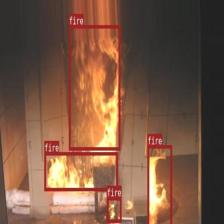fire: (68, 25, 120, 149), (44, 152, 117, 190), (146, 144, 172, 224), (106, 196, 121, 222)
